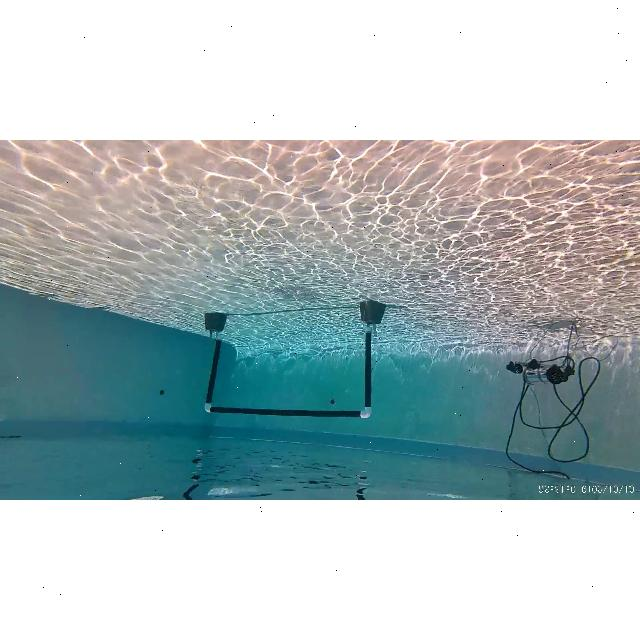prequal gate: (204, 324, 373, 418)
prequal gate leg l: (356, 300, 384, 416)
prequal gate leg r: (197, 310, 225, 414)
